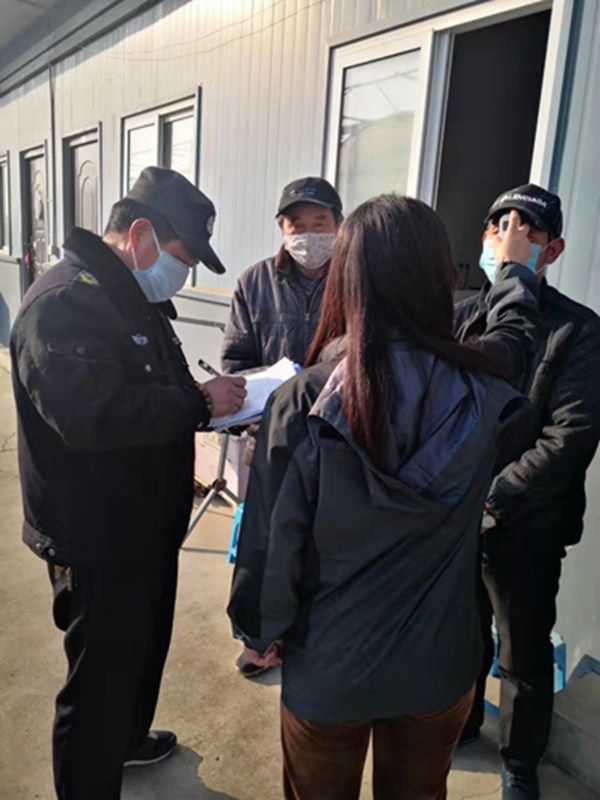correctlyWear: (126, 211, 198, 305), (478, 223, 566, 295), (276, 211, 347, 270)
